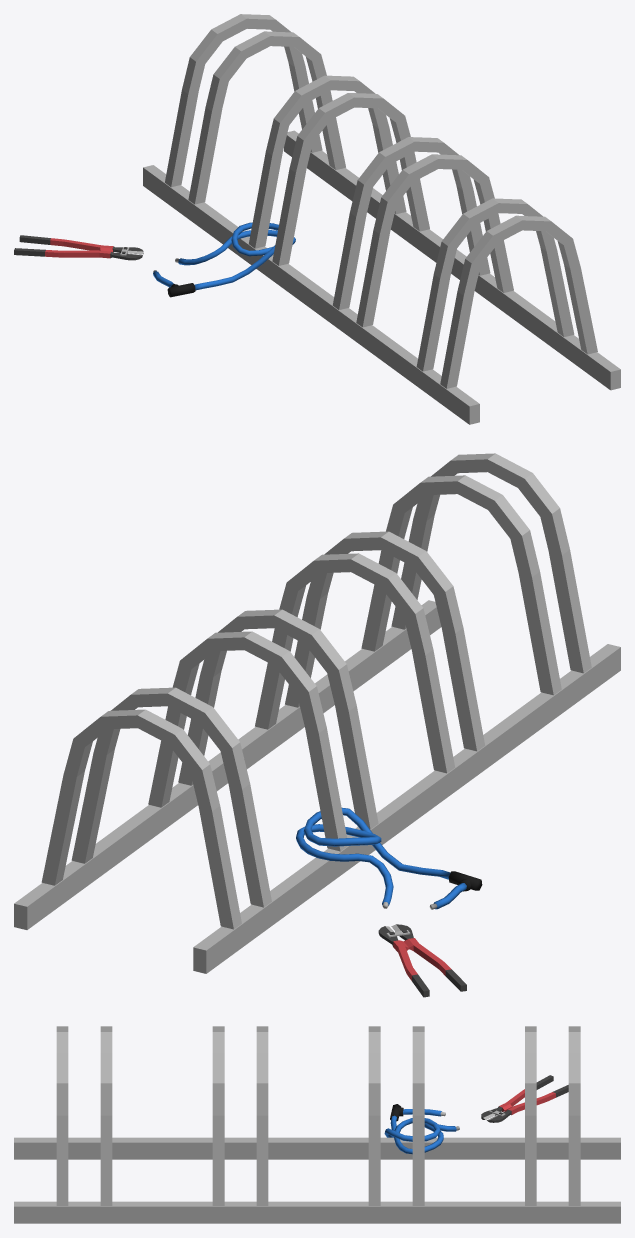
File: okradene_kolo.fbx
3 views of the same model, one above another, from view 1: azimuth 30°, elevation 25°; view 2: azimuth 150°, elevation 25°; view 3: azimuth 270°, elevation 25° (orthographic). The views are drawn at different scales.
Parts seen in each view (by area): view 1: ukradene kolo; view 2: ukradene kolo; view 3: ukradene kolo.
Part boxes in pixels (x1=…): ukradene kolo: x1=14, y1=14, x2=620, y2=424; ukradene kolo: x1=14, y1=453, x2=620, y2=997; ukradene kolo: x1=14, y1=1026, x2=620, y2=1223.
Bounding box in the file's own units: 237 × 120 × 420.
